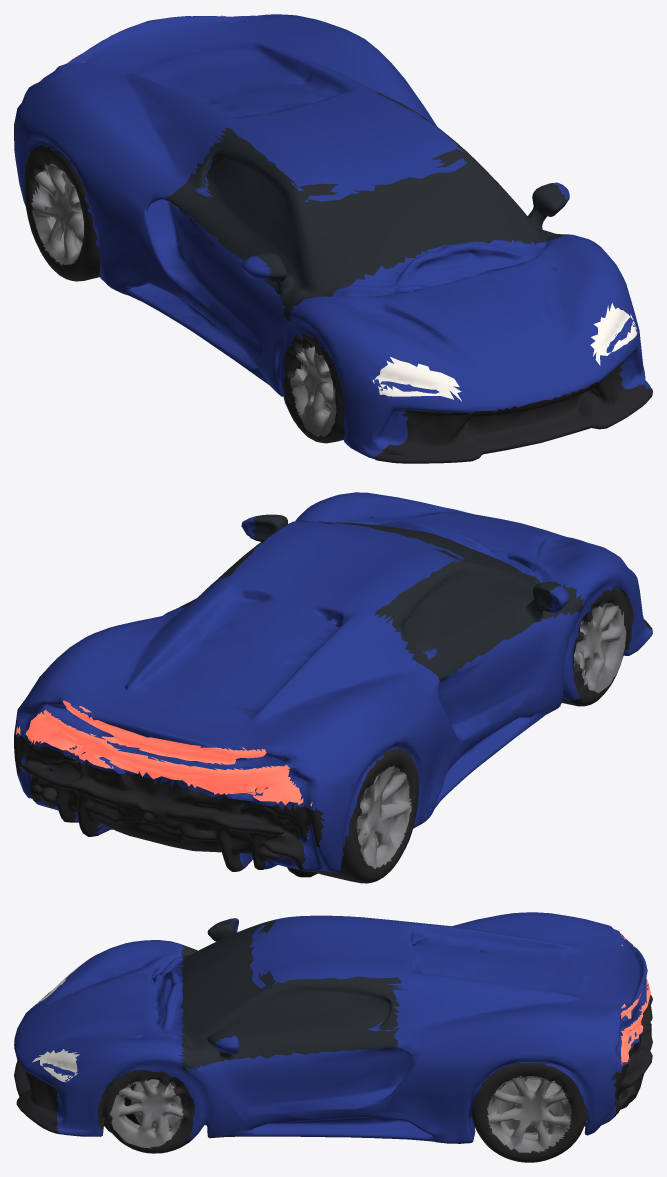
File: Hypercar.fbx
3 views of the same model, one above another, from view 1: azimuth 30°, elevation 25°; view 2: azimuth 150°, elevation 25°; view 3: azimuth 270°, elevation 25° (orthographic). The views are drawn at different scales.
Parts seen in each view (by area): view 1: Body_Paint, Glass, Body_Trim, Wheel_RL_rim, Wheel_RL_tyre, LightsFront, Wheel_FL_rim, Wheel_FL_tyre; view 2: Body_Paint, Body_Trim, Glass, LightsRear, Wheel_RL_rim, Wheel_RL_tyre, Wheel_FL_rim, Wheel_FL_tyre; view 3: Body_Paint, Glass, Wheel_RR_rim, Wheel_RR_tyre, Body_Trim, Wheel_FR_rim, Wheel_FR_tyre, LightsFront, LightsRear.
Part boxes in pixels (x1,y1,x2,y2): Body_Paint: (14,14,651,458); Glass: (166,92,566,321); Body_Trim: (14,124,652,463); Wheel_RL_rim: (31,163,83,265); Wheel_RL_tyre: (24,145,100,281); LightsFront: (372,303,637,401); Wheel_FL_rim: (290,346,336,436); Wheel_FL_tyre: (283,333,344,443); Body_Paint: (14,492,652,873); Body_Trim: (14,559,652,871); Glass: (170,514,583,681); LightsRear: (16,700,312,806); Wheel_RL_rim: (303,765,411,869); Wheel_RL_tyre: (313,747,418,883); Wheel_FL_rim: (573,602,626,693); Wheel_FL_tyre: (568,587,633,705); Body_Paint: (14,912,648,1143); Glass: (179,917,404,1071); Wheel_RR_rim: (487,1062,571,1152); Wheel_RR_tyre: (471,1062,587,1162); Body_Trim: (14,995,652,1150); Wheel_FR_rim: (110,1079,183,1148); Wheel_FR_tyre: (97,1069,194,1153); LightsFront: (32,968,79,1082); LightsRear: (620,933,650,1065).
Size of the model in its own units: 753 by 439 by 1558.
